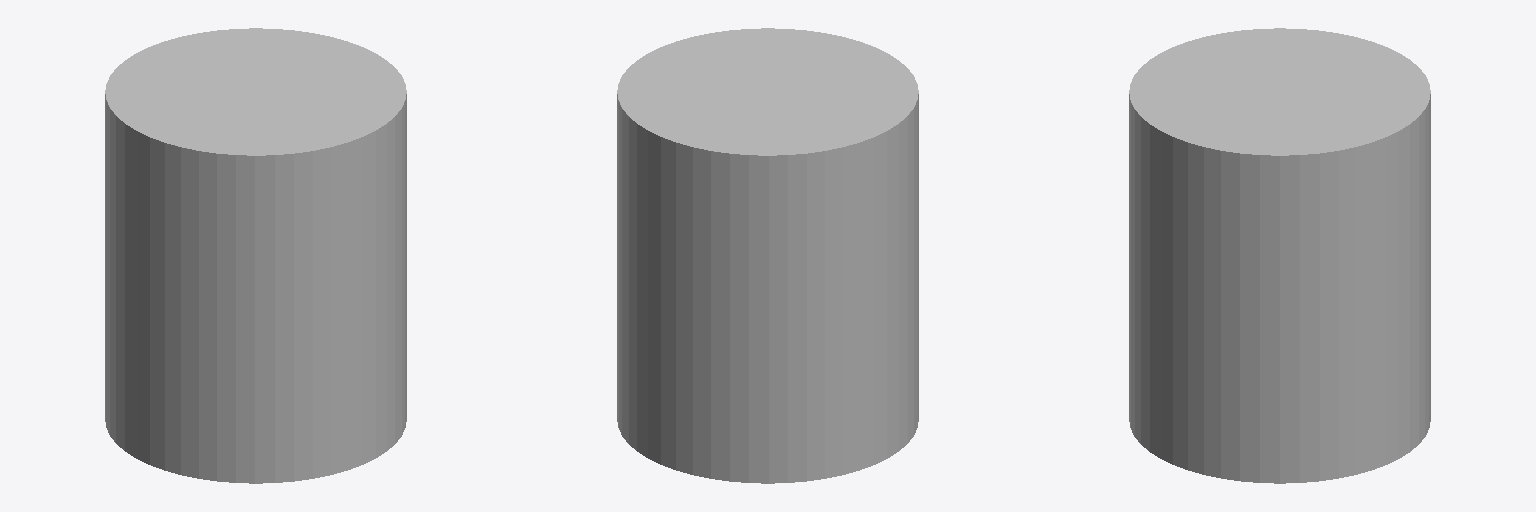
The model's file is v02-right.obj.
The picture shows the model from 3 angles: view 1: azimuth 30°, elevation 25°; view 2: azimuth 150°, elevation 25°; view 3: azimuth 270°, elevation 25°; orthographic projection.
Visible parts, largest first — view 1: BezierCircle.001_BezierCircle.002; view 2: BezierCircle.001_BezierCircle.002; view 3: BezierCircle.001_BezierCircle.002.
Boxes of the visible parts, <box> form: BezierCircle.001_BezierCircle.002: <box>105,28,406,483</box>; BezierCircle.001_BezierCircle.002: <box>617,28,918,483</box>; BezierCircle.001_BezierCircle.002: <box>1129,28,1430,483</box>.
Size of the model in its own units: 0.3131 by 0.3757 by 0.3131.